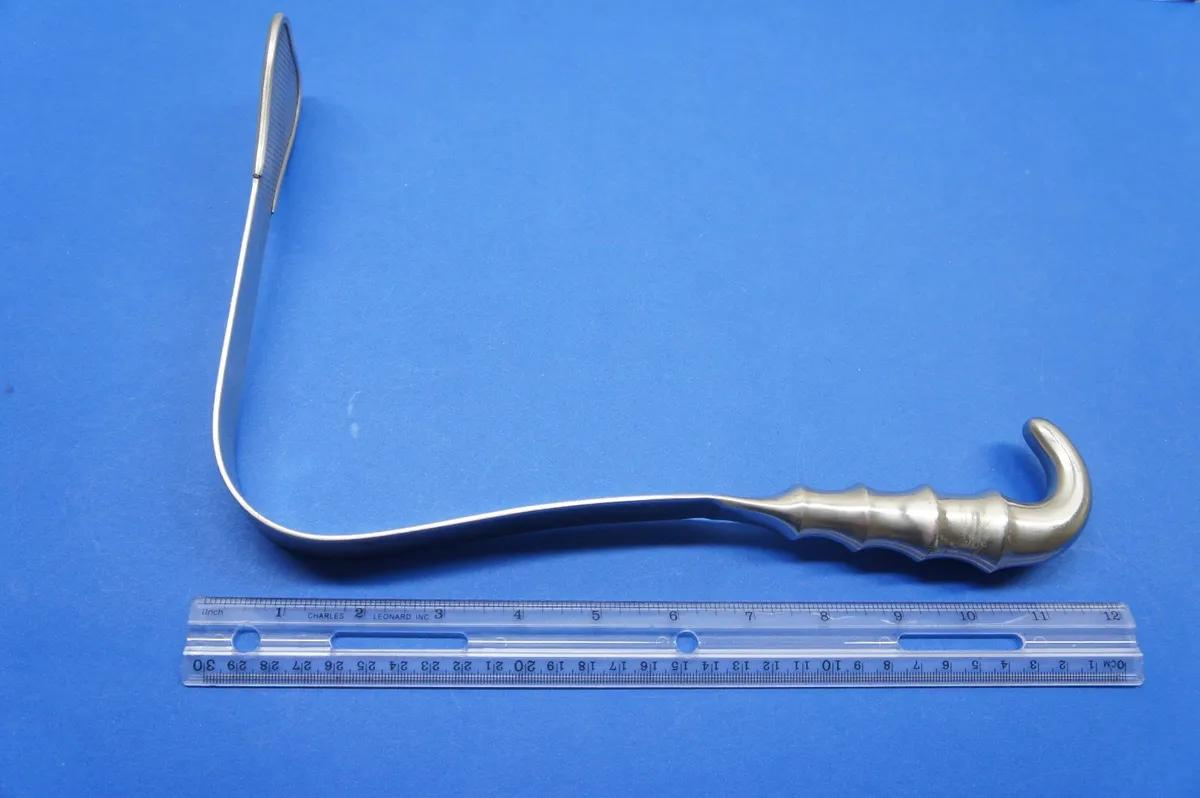Harrington Retractor: (186, 9, 1114, 588)
